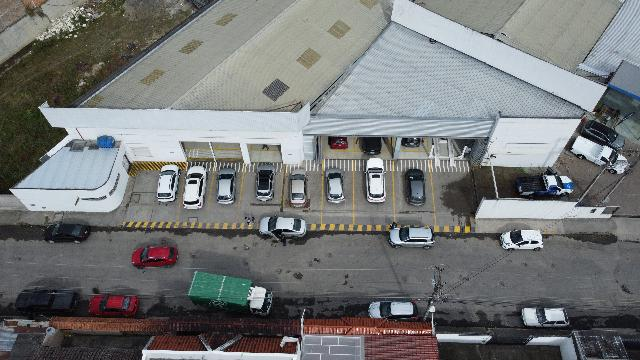Vehiculo: (187, 272, 273, 316), (15, 288, 79, 316), (581, 120, 625, 150), (516, 175, 572, 197), (258, 216, 306, 241), (388, 223, 434, 249), (182, 166, 208, 210), (88, 295, 138, 317), (368, 300, 418, 322), (131, 246, 177, 268), (364, 158, 386, 202), (521, 308, 569, 328), (501, 229, 544, 251), (44, 223, 90, 243), (156, 164, 180, 202), (254, 164, 276, 200), (406, 169, 426, 206), (216, 168, 236, 205), (325, 167, 345, 203), (290, 168, 308, 208), (361, 138, 382, 154), (328, 137, 348, 149), (402, 138, 420, 146)
